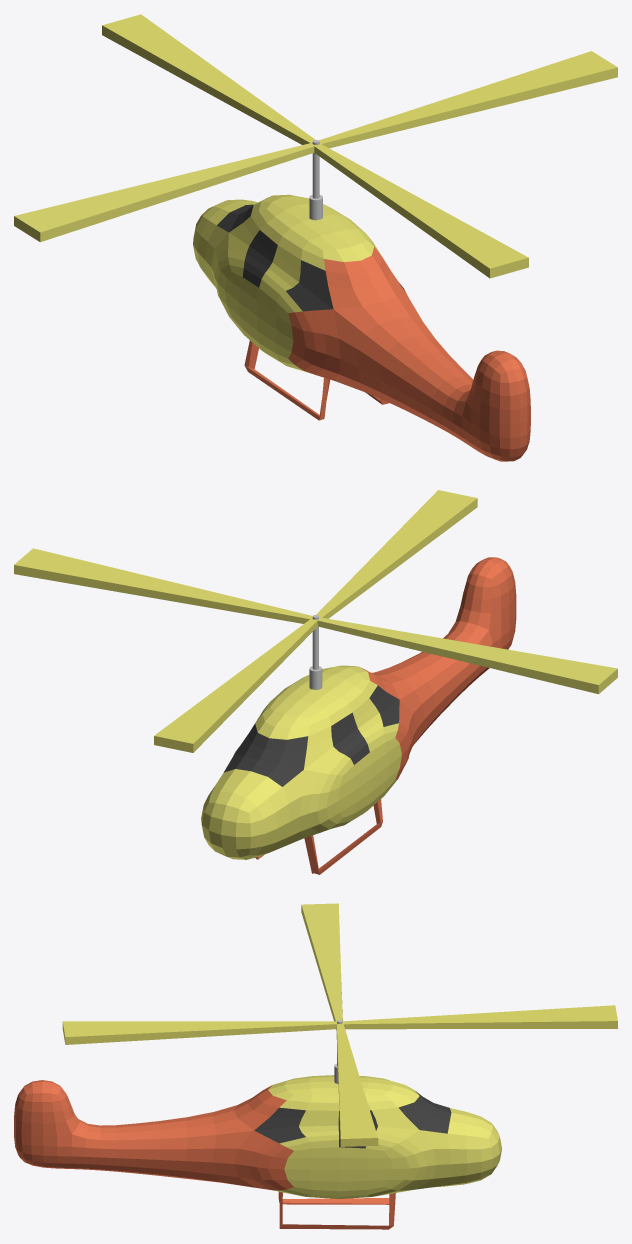
The model's file is 航太系.fbx.
3 renders of one model, top to bottom at view 1: azimuth 30°, elevation 25°; view 2: azimuth 150°, elevation 25°; view 3: azimuth 270°, elevation 25°, orthographic. The views are drawn at different scales.
Parts seen in each view (by area): view 1: 立方體; view 2: 立方體; view 3: 立方體.
Boxes of the visible parts, box(x1,y1,x2,y2) form: 立方體: box(14, 14, 617, 461); 立方體: box(14, 490, 617, 874); 立方體: box(14, 903, 617, 1229).
Bounding box in the file's own units: 2009 × 777 × 2176.
